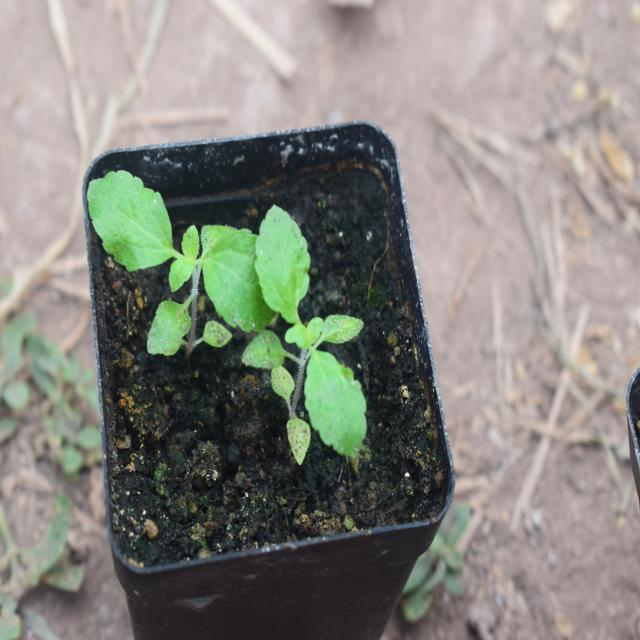billygoat_weed: (88, 164, 273, 351), (266, 212, 381, 461)
